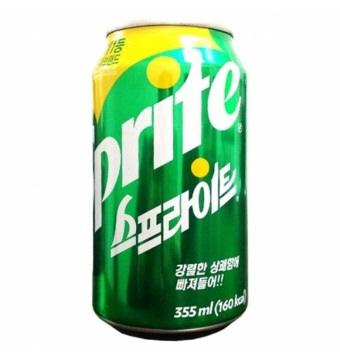sprite: (87, 17, 254, 345)
